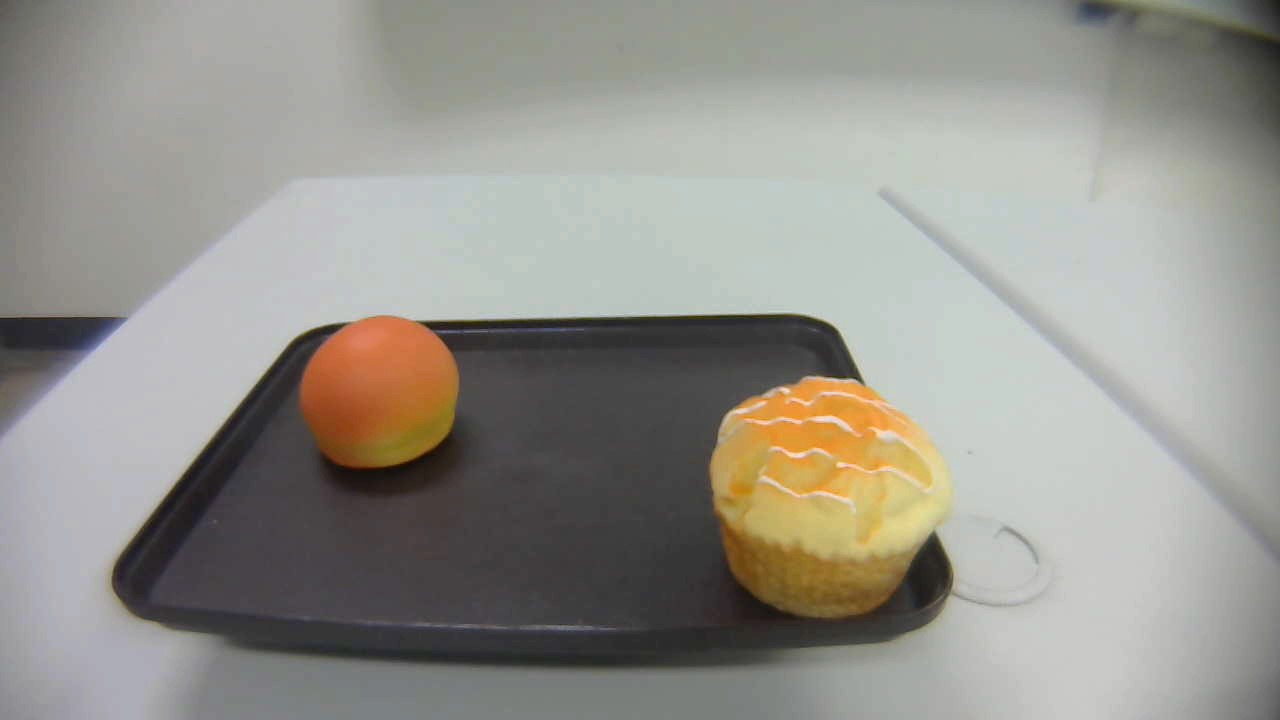bun: (299, 316, 459, 468)
cupcake: (708, 373, 950, 620)
